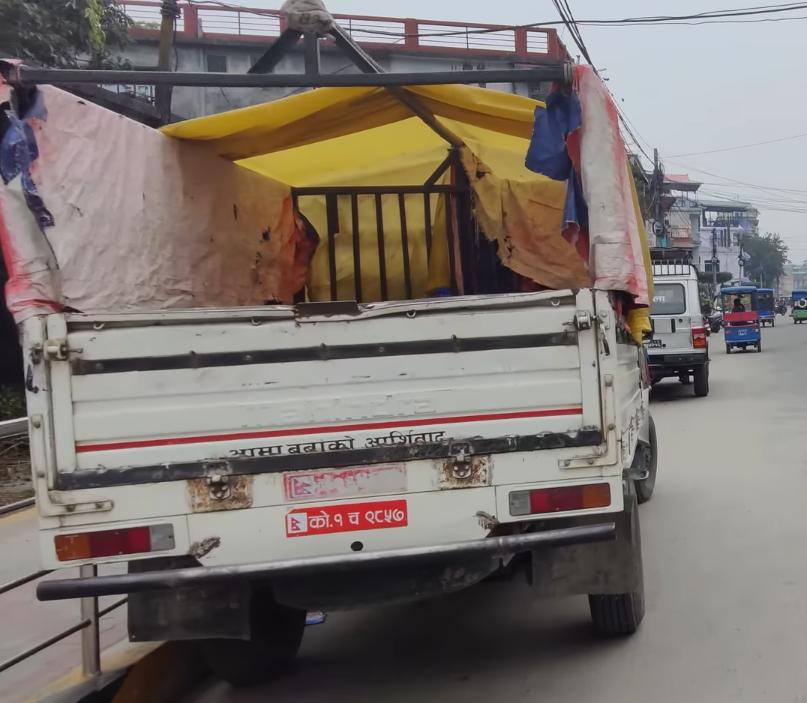SUV: (642, 242, 718, 429)
e-rickshaw: (715, 275, 780, 361), (789, 284, 807, 334)
transport_vehicle: (0, 27, 666, 703)
